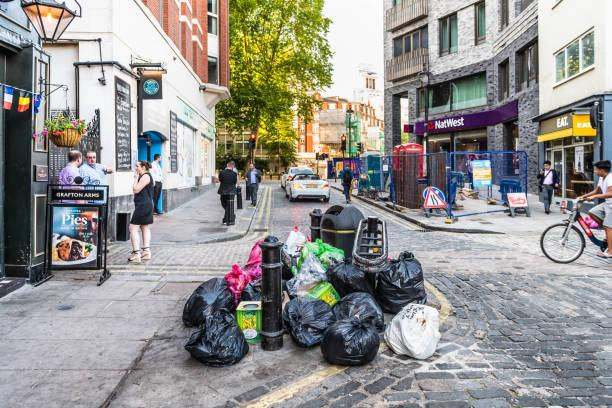trash: (379, 243, 425, 322), (332, 287, 377, 364), (384, 300, 436, 358), (291, 235, 339, 294), (276, 293, 326, 348), (189, 311, 234, 366), (229, 292, 269, 345), (299, 279, 341, 319), (189, 278, 226, 320), (275, 227, 308, 274), (329, 251, 361, 297), (241, 239, 268, 284), (218, 263, 247, 300), (242, 275, 274, 304)
trash_can_overflow: (187, 179, 418, 376)
